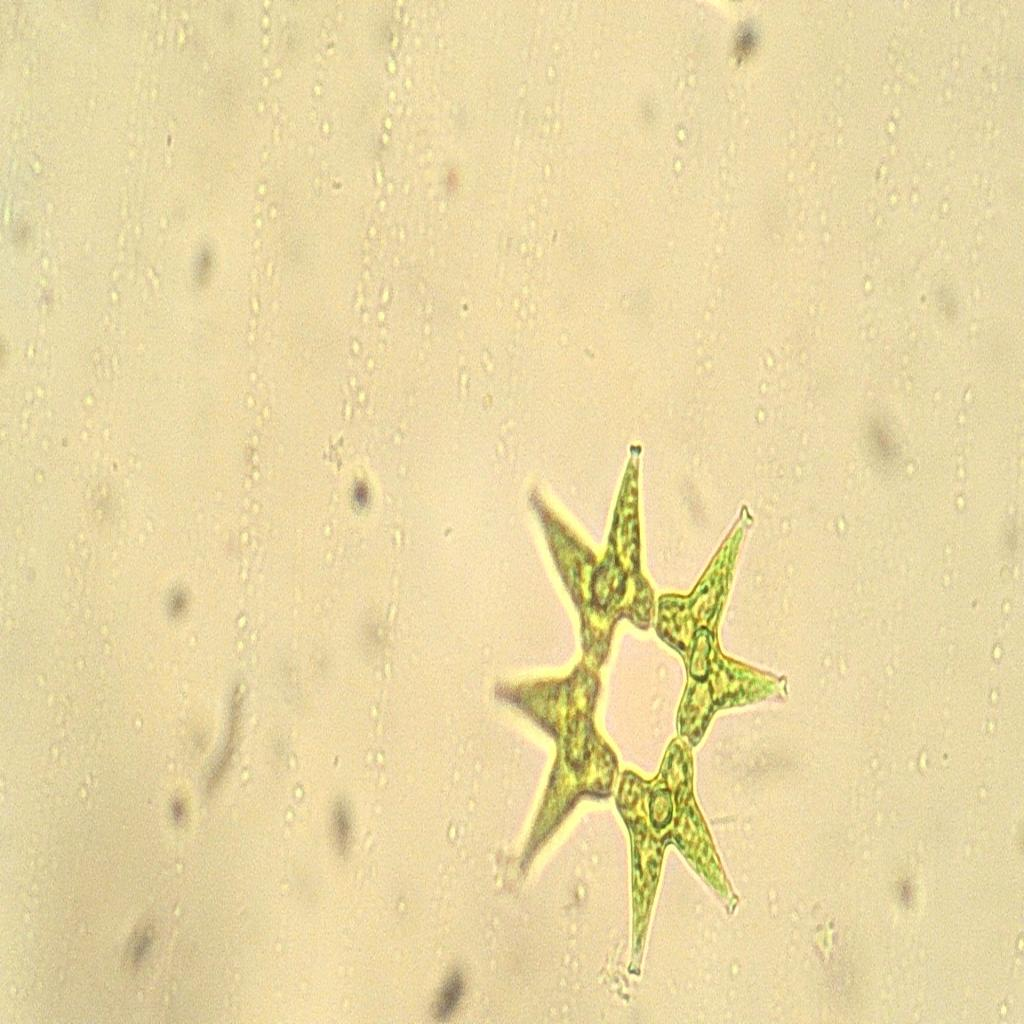Pediastrum_75O: (482, 409, 793, 996)
